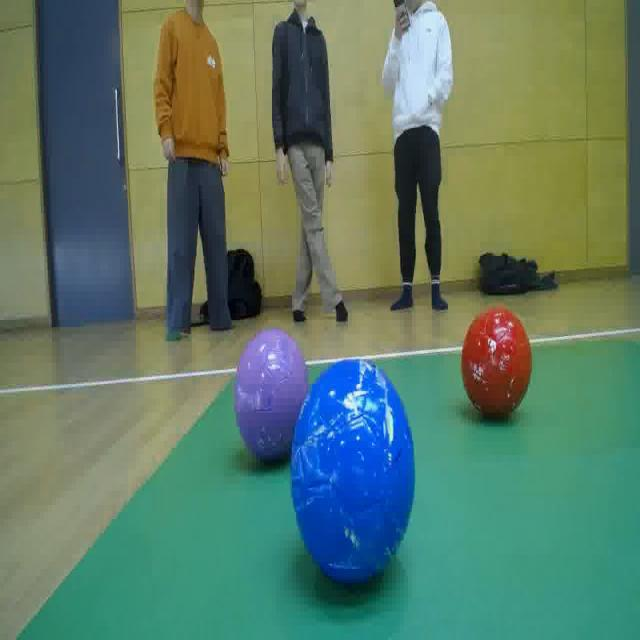blue_ball: (282, 353, 424, 610)
purple_ball: (232, 326, 308, 466)
red_ball: (462, 306, 536, 434)
